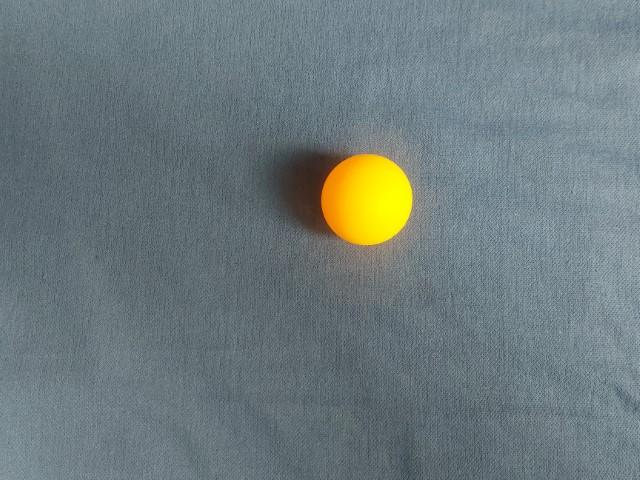oball: (221, 231, 324, 331)
